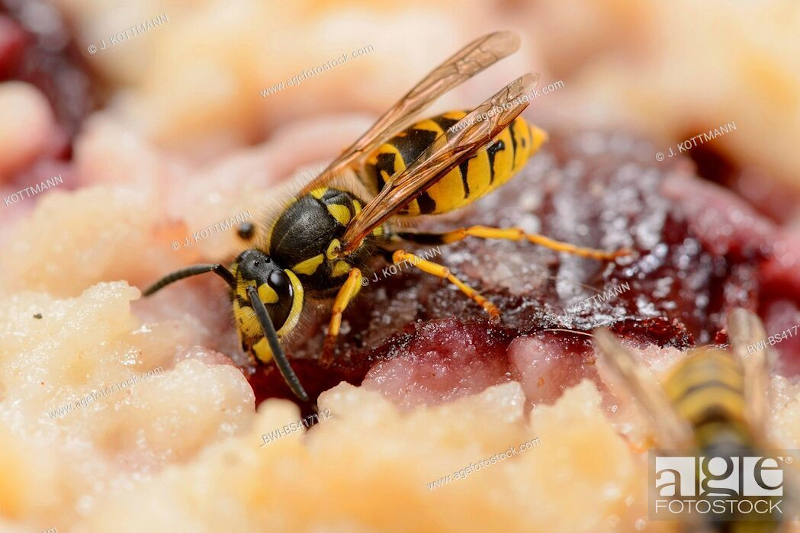chax: (110, 14, 627, 428)
